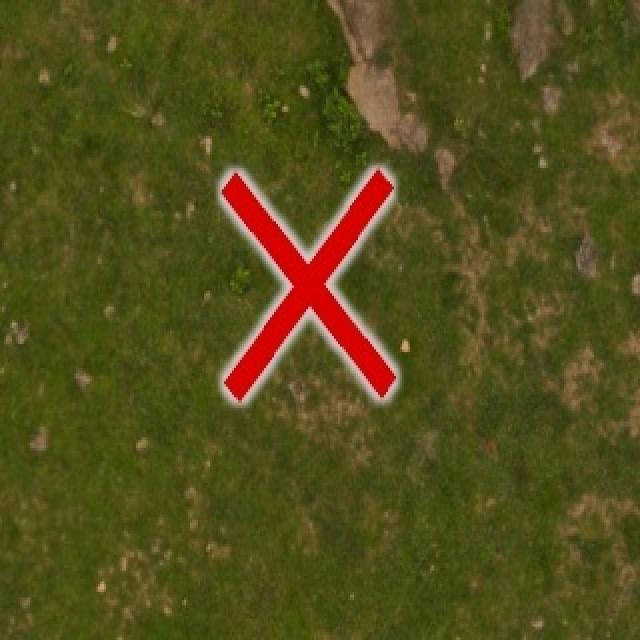x_marker: (221, 169, 395, 399)
